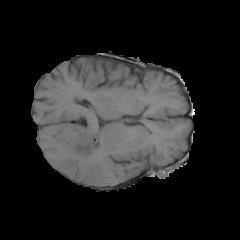glioma: (65, 127, 114, 157)
